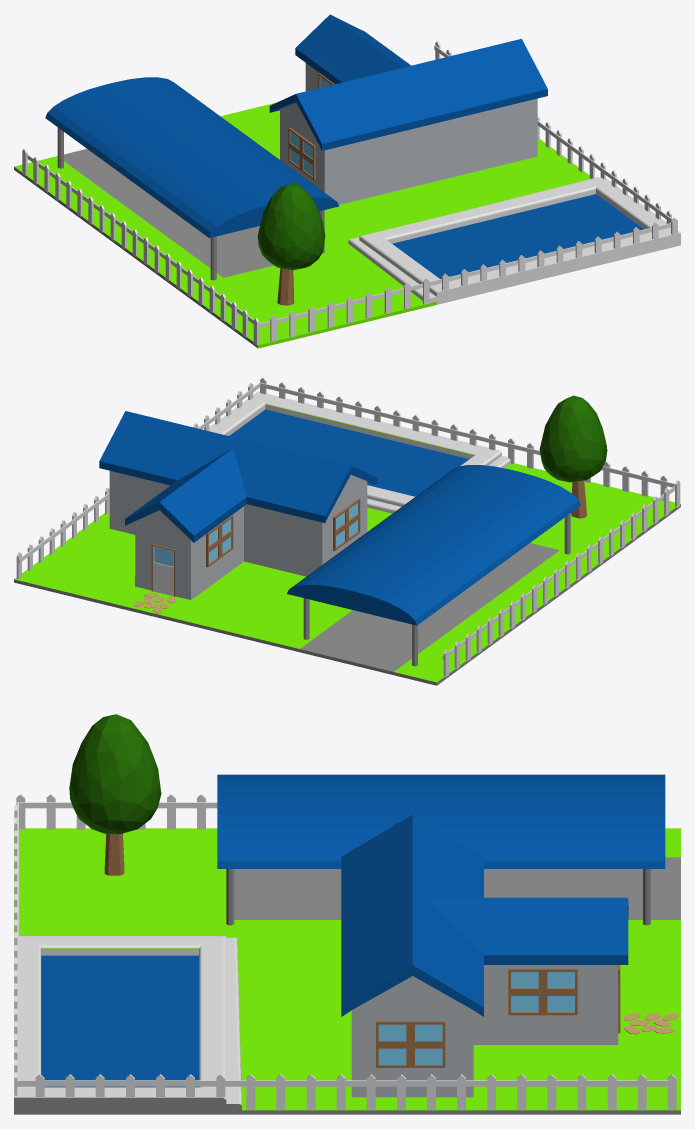
The model's file is Casa_3.fbx.
The picture shows the model from 3 angles, top to bottom: view 1: azimuth 30°, elevation 25°; view 2: azimuth 150°, elevation 25°; view 3: azimuth 270°, elevation 25°; orthographic projection. The views are drawn at different scales.
Visible parts, largest first — view 1: Chao 3, Corpo.001, Cobertura, Cerca.005, Agua, Entrada, Folhas 3, Janela 8, Pilares do coberto, Tronco 3; view 2: Chao 3, Cobertura, Corpo.001, Entrada, Cerca.005, Agua, Folhas 3, Porta 3, Janela 8, Janela 6, Pilares do coberto; view 3: Chao 3, Cobertura, Corpo.001, Agua, Entrada, Cerca.005, Folhas 3, Janela 5, Janela 7, Pilares do coberto, Patio, Tronco 3.
Boxes of the visible parts, bbox=[...] form: Chao 3: bbox=[14, 102, 680, 348]; Corpo.001: bbox=[269, 38, 547, 204]; Cobertura: bbox=[45, 77, 339, 237]; Cerca.005: bbox=[22, 41, 677, 345]; Agua: bbox=[392, 194, 643, 278]; Entrada: bbox=[295, 14, 410, 91]; Folhas 3: bbox=[257, 183, 325, 270]; Janela 8: bbox=[288, 127, 315, 179]; Pilares do coberto: bbox=[57, 127, 324, 280]; Tronco 3: bbox=[277, 268, 294, 305]; Chao 3: bbox=[14, 391, 680, 685]; Cobertura: bbox=[287, 465, 580, 625]; Corpo.001: bbox=[99, 411, 377, 576]; Entrada: bbox=[125, 448, 246, 599]; Cerca.005: bbox=[16, 377, 680, 677]; Agua: bbox=[229, 409, 468, 496]; Folhas 3: bbox=[539, 395, 607, 482]; Porta 3: bbox=[151, 544, 175, 596]; Janela 8: bbox=[333, 498, 360, 550]; Janela 6: bbox=[206, 515, 233, 567]; Pilares do coberto: bbox=[303, 513, 570, 666]; Chao 3: bbox=[14, 828, 680, 1114]; Cobertura: bbox=[217, 774, 665, 868]; Corpo.001: bbox=[341, 814, 483, 1097]; Agua: bbox=[41, 955, 198, 1087]; Entrada: bbox=[426, 897, 628, 1044]; Cerca.005: bbox=[14, 794, 676, 1109]; Folhas 3: bbox=[69, 714, 161, 834]; Janela 5: bbox=[508, 968, 577, 1015]; Janela 7: bbox=[376, 1021, 445, 1067]; Pilares do coberto: bbox=[226, 869, 650, 925]; Patio: bbox=[623, 1013, 678, 1034]; Tronco 3: bbox=[104, 833, 124, 875].
Size of the model in its own units: 650 by 649 by 175.
